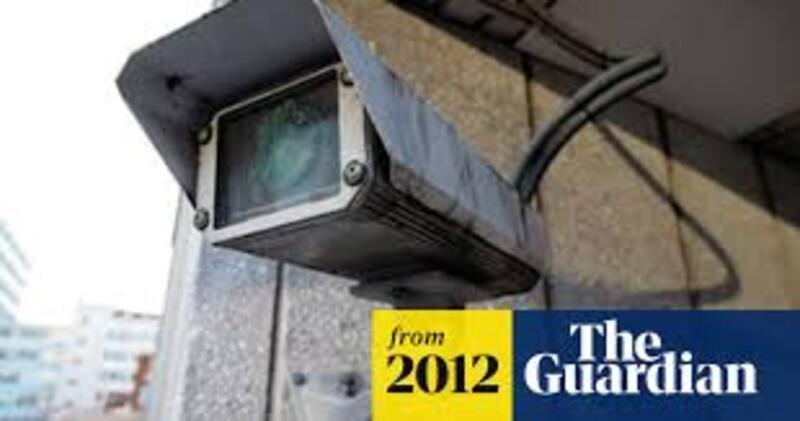box: (114, 49, 559, 300)
